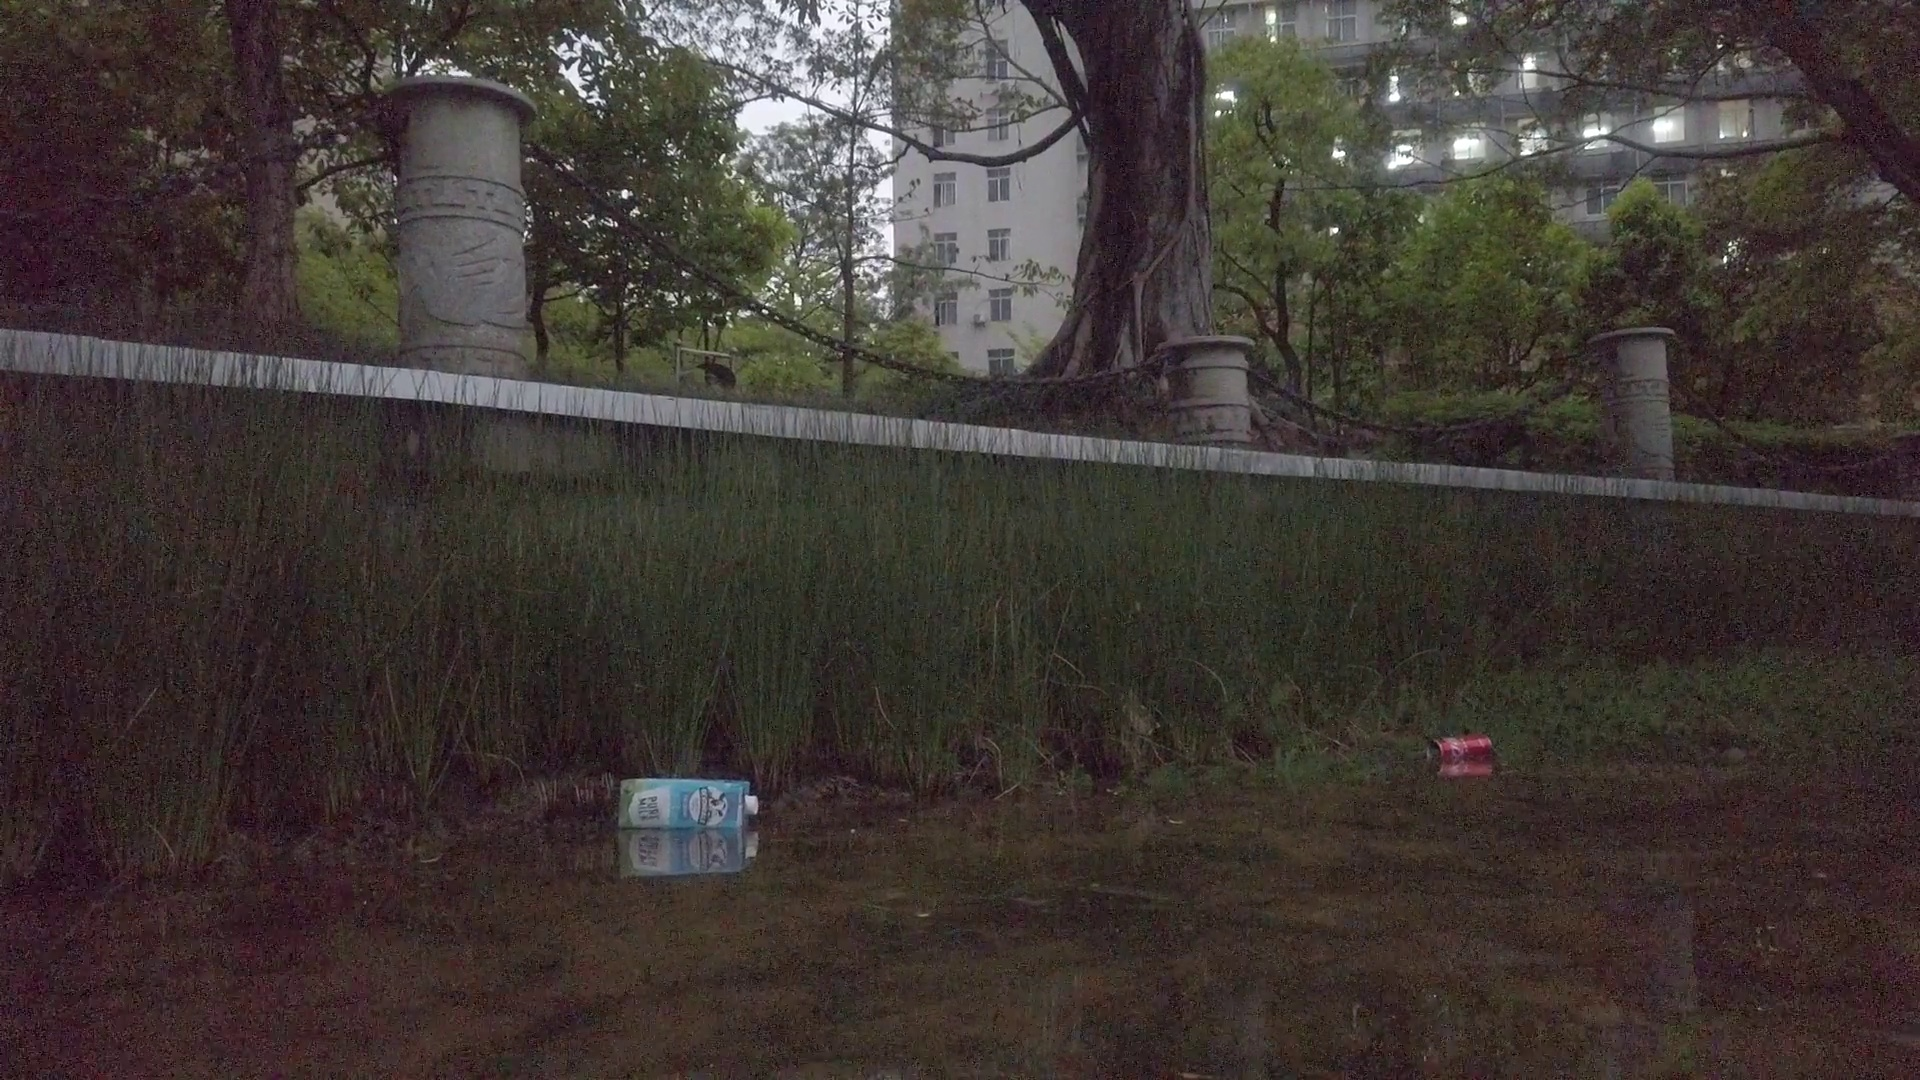bottle: (1429, 731, 1499, 767)
carton: (617, 777, 756, 829)
